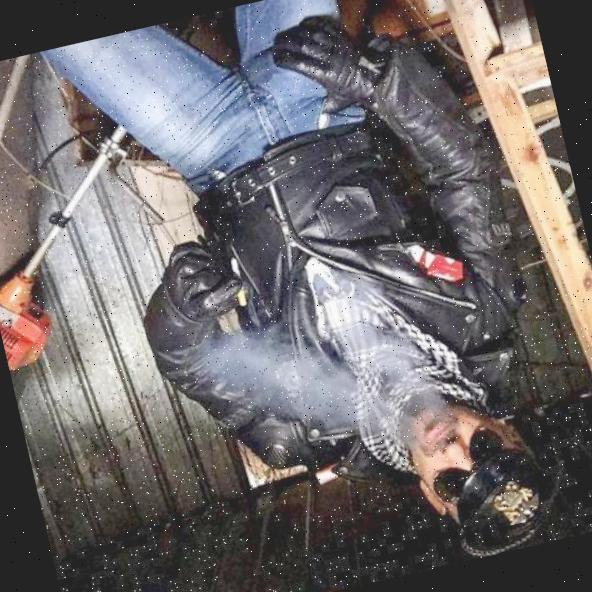smoke: (192, 255, 442, 477)
